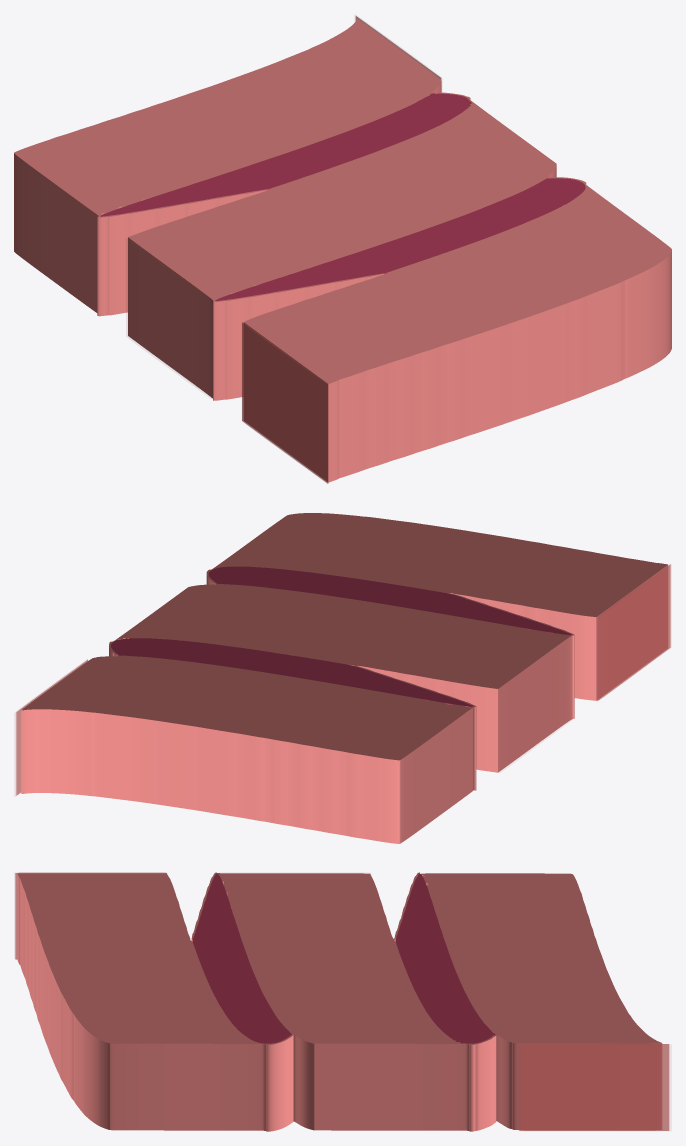
File: scala.glb
3 views of the same model, one above another, from view 1: azimuth 30°, elevation 25°; view 2: azimuth 150°, elevation 25°; view 3: azimuth 270°, elevation 25° (orthographic). The views are drawn at different scales.
Visible parts, largest first — view 1: Node1, Node2, Node4, Node3, Node8; view 2: Node1, Node2, Node4, Node3, Node8, Node9; view 3: Node1, Node2, Node9, Node4, Node3, Node8.
Part boxes in pixels (box(x1,y1,x2,y2)): Node1: box(97, 92, 671, 482); Node2: box(14, 19, 441, 312); Node4: box(100, 93, 470, 216); Node3: box(215, 178, 585, 300); Node8: box(242, 322, 328, 483); Node1: box(109, 513, 668, 790); Node2: box(21, 655, 473, 843); Node4: box(111, 638, 473, 789); Node3: box(208, 566, 571, 634); Node8: box(597, 564, 670, 700); Node9: box(16, 659, 87, 795); Node1: box(17, 872, 496, 1131); Node2: box(421, 873, 662, 1129); Node9: box(519, 1044, 669, 1130); Node4: box(395, 873, 495, 1043); Node3: box(192, 873, 291, 1043); Node8: box(15, 872, 166, 959).
Bounding box in the file's own units: 2.13 × 0.5 × 3.44.
